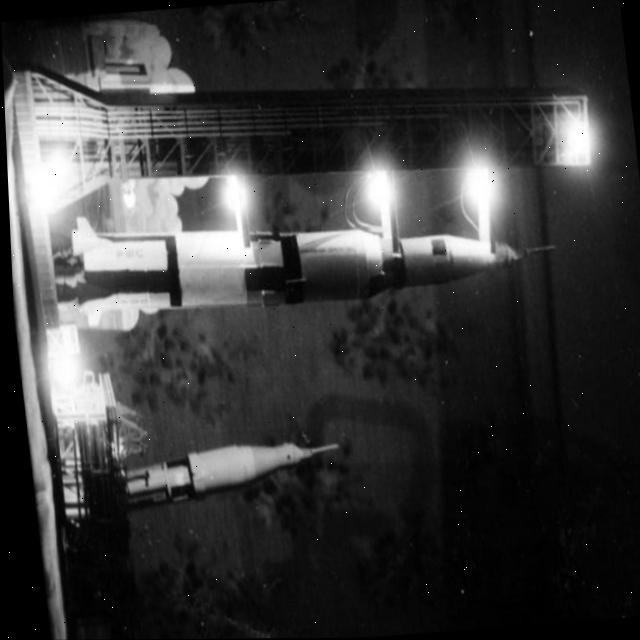missile: (56, 203, 526, 323)
